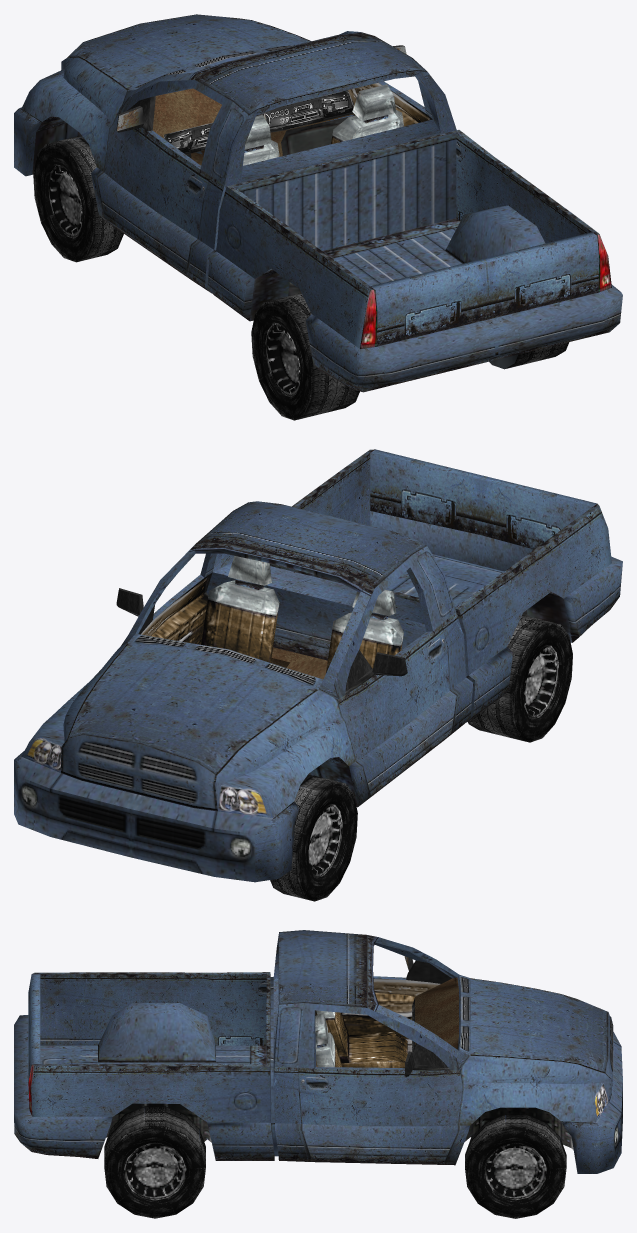
File: Model_Cars_SUV.fbx
3 renders of one model, top to bottom at view 1: azimuth 30°, elevation 25°; view 2: azimuth 150°, elevation 25°; view 3: azimuth 270°, elevation 25°, orthographic. The views are drawn at different scales.
Visible parts, largest first — view 1: Car_Body, LeftDoor, hood, LB_Wheel, LF_Wheel, RightDoor, RB_Wheel; view 2: Car_Body, hood, LeftDoor, LB_Wheel, LF_Wheel, RightDoor; view 3: Car_Body, RightDoor, hood, RB_Wheel, RF_Wheel, LeftDoor.
Boxes of the visible parts, box(x1,y1,x2,y2) form: Car_Body: box(14, 31, 622, 392); LeftDoor: box(97, 80, 232, 273); hood: box(67, 14, 311, 90); LB_Wheel: box(251, 293, 359, 420); LF_Wheel: box(33, 136, 123, 262); RightDoor: box(348, 45, 432, 126); RB_Wheel: box(489, 342, 569, 369); Car_Body: box(14, 449, 622, 882); hood: box(67, 633, 323, 775); LeftDoor: box(334, 555, 456, 795); LB_Wheel: box(468, 615, 572, 742); LF_Wheel: box(270, 775, 357, 901); RightDoor: box(116, 547, 216, 644); Car_Body: box(14, 930, 622, 1173); RightDoor: box(299, 1003, 462, 1160); hood: box(459, 974, 608, 1073); RB_Wheel: box(104, 1106, 205, 1218); RF_Wheel: box(465, 1114, 566, 1218); LeftDoor: box(315, 943, 451, 1053).
Bounding box in the file's own units: 265 × 215 × 577.
